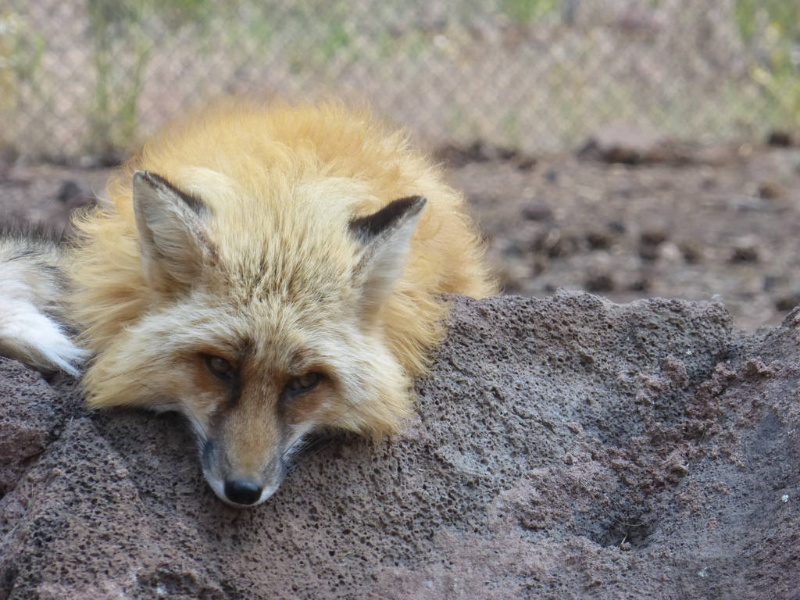fox: (68, 94, 500, 513)
